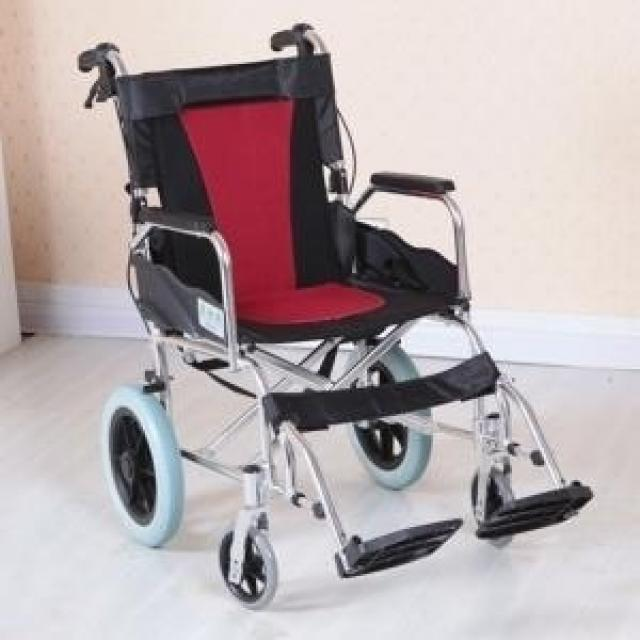wheelchair: (61, 9, 601, 614)
